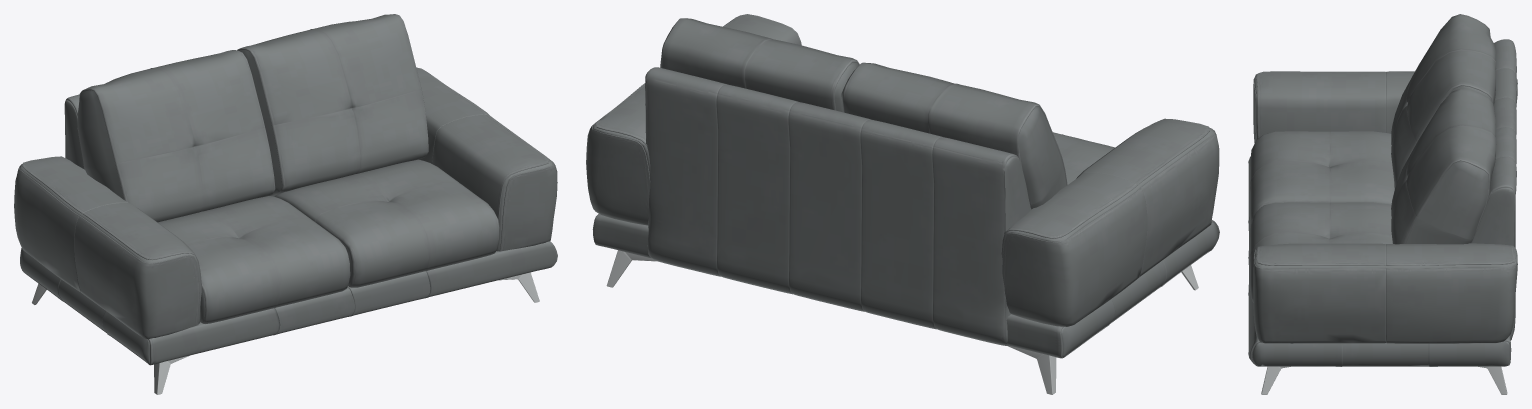
Rendered from B07HPNP56W.glb.
3 views of the same model, side by side, from view 1: azimuth 30°, elevation 25°; view 2: azimuth 150°, elevation 25°; view 3: azimuth 270°, elevation 25° (orthographic). The views are drawn at different scales.
Parts seen in each view (by area): view 1: RootNode; view 2: RootNode; view 3: RootNode.
Boxes of the visible parts, box(x1,y1,x2,y2) form: RootNode: box(14, 14, 557, 394); RootNode: box(586, 14, 1219, 394); RootNode: box(1248, 14, 1517, 394).
Size of the model in its own units: 1.81 by 0.9073 by 1.02.
1 material, 1 textured.
